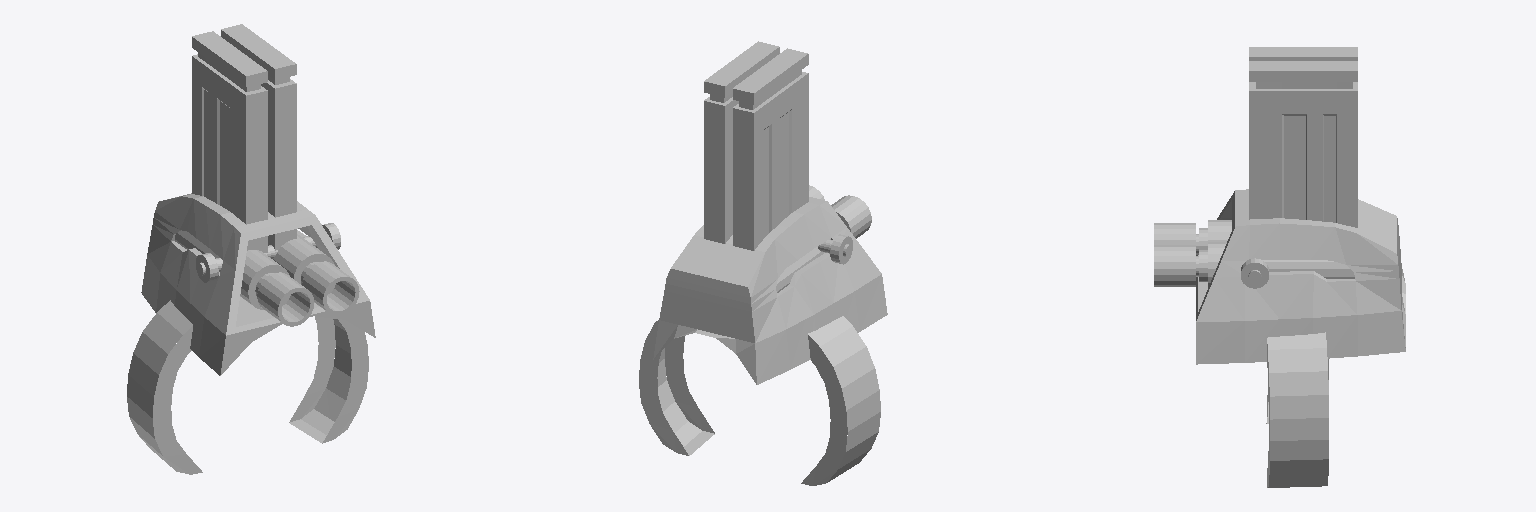
File: gun export.obj
3 views of the same model, side by side, from view 1: azimuth 30°, elevation 25°; view 2: azimuth 150°, elevation 25°; view 3: azimuth 270°, elevation 25° (orthographic).
Parts seen in each view (by area): view 1: polySurface214; view 2: polySurface214; view 3: polySurface214.
Part boxes in pixels (x1,y1,x2,y2): polySurface214: (127,24,375,474); polySurface214: (639,41,887,485); polySurface214: (1154,47,1405,487).
Size of the model in its own units: 1 by 1.74 by 1.01.